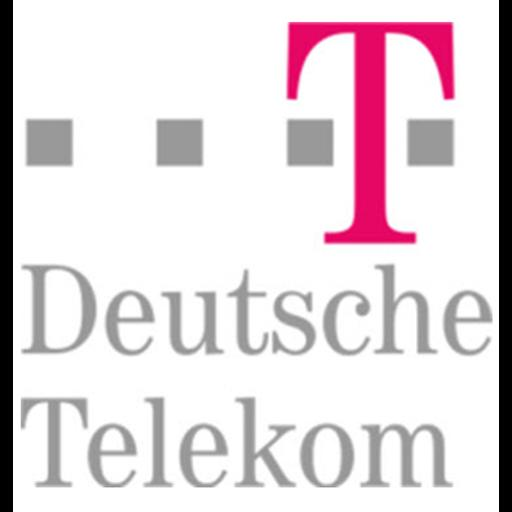Deutsche Telekom: (13, 0, 499, 512)
